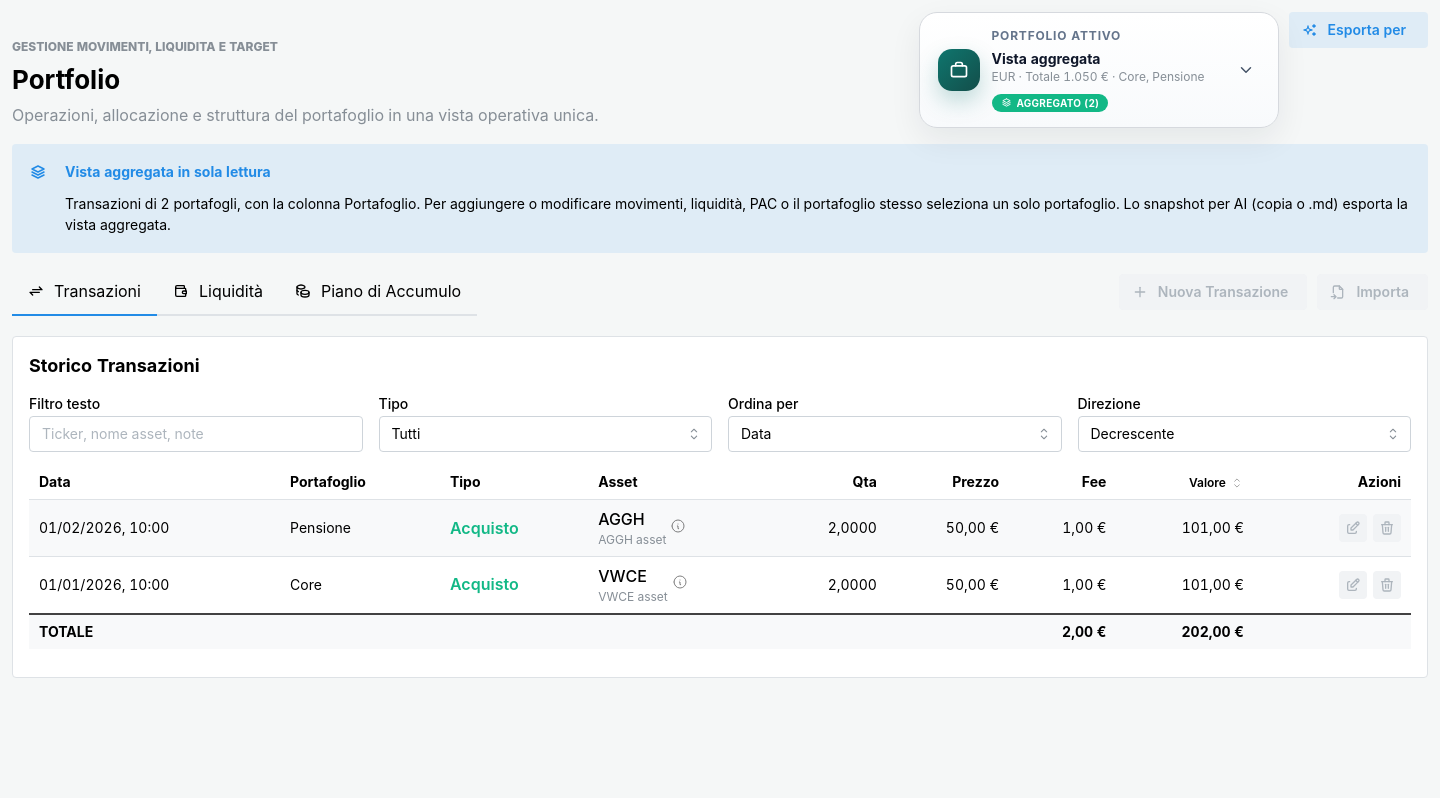
Test: PortfolioPage in the aggregate view (read-only) › shows a friendly message when the aggregate export fails
Check: the text "VWCE" is shown, box x1=598 y1=566 x2=647 y2=586
Click the button "Esporta per AI".
click(1358, 30)  # box x1=1288 y1=12 x2=1428 y2=48
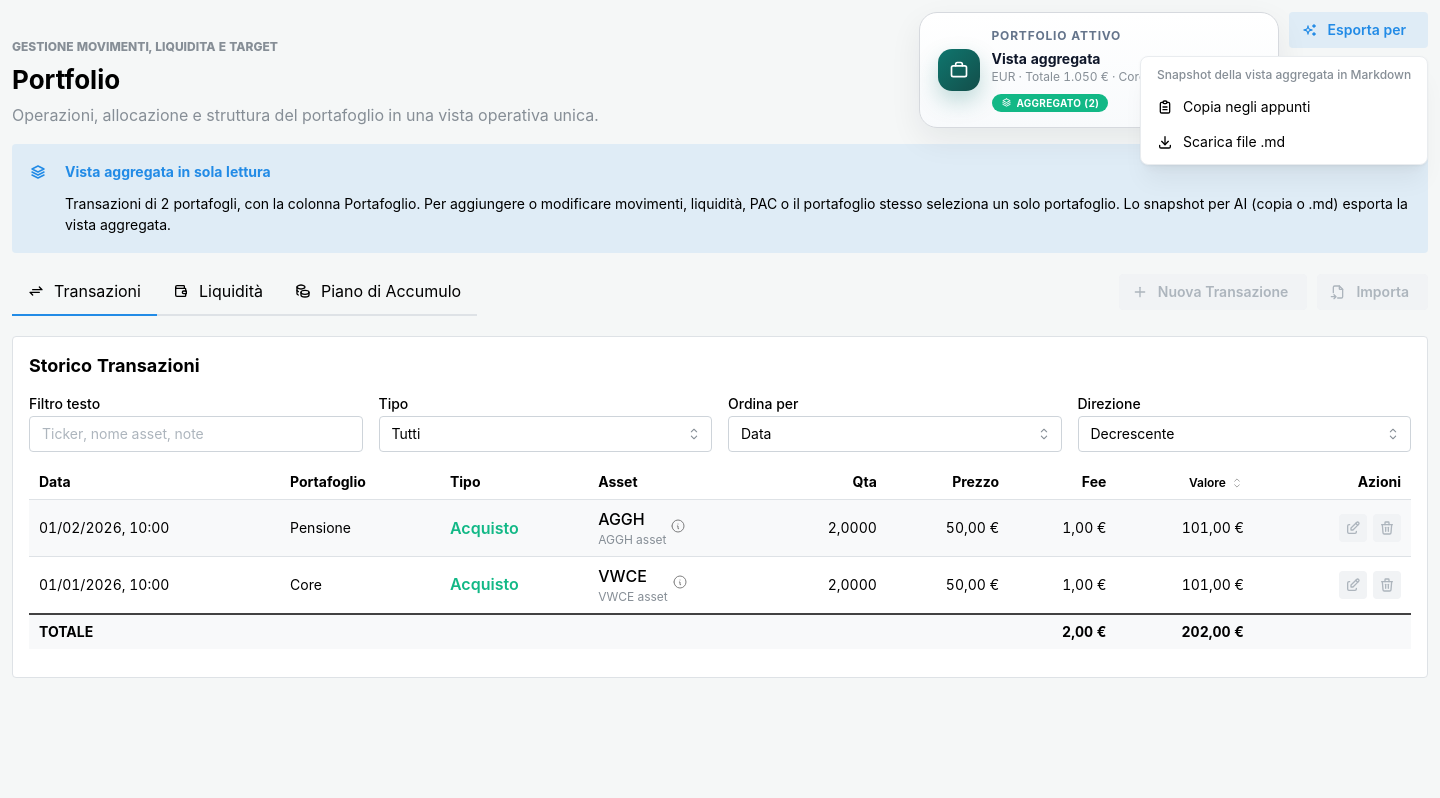
Click the menu item "Scarica file .md".
click(1284, 142)  # box x1=1145 y1=125 x2=1423 y2=160
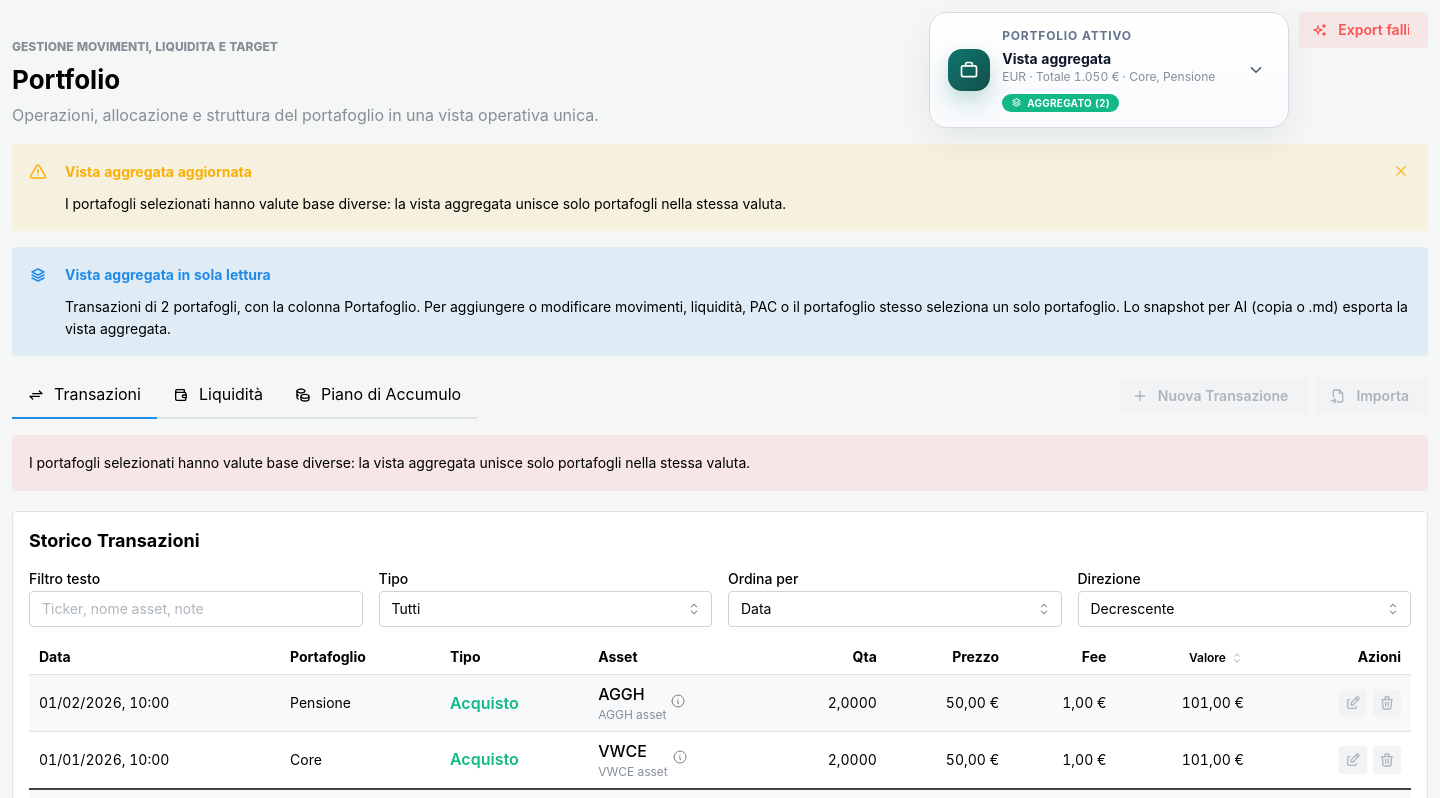
Check: the text "hanno valute base diverse" below "Vista aggregata aggiornata" is shown, box x1=65 y1=195 x2=786 y2=212
